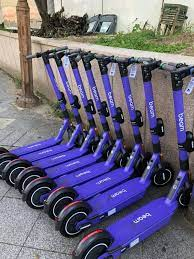kick_handler: (159, 63, 194, 88), (24, 46, 67, 62)
kick_neck: (144, 82, 165, 154), (174, 90, 193, 169), (122, 79, 142, 142)
kick_wheel: (58, 201, 88, 237), (152, 165, 172, 185)
